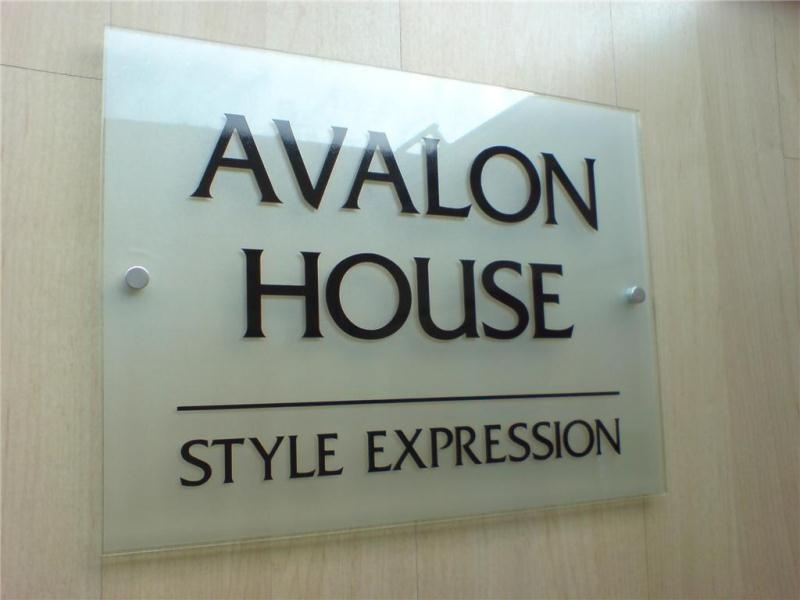text: (219, 110, 234, 233), (235, 110, 250, 233), (251, 110, 266, 233), (267, 110, 282, 233), (283, 110, 298, 233), (299, 110, 314, 233), (315, 110, 330, 233), (331, 110, 346, 233), (347, 110, 362, 233), (363, 110, 378, 233), (379, 110, 394, 233), (395, 110, 410, 233), (411, 110, 426, 233), (427, 110, 442, 233), (443, 110, 458, 233), (459, 110, 474, 233), (475, 110, 490, 233), (491, 110, 506, 233), (507, 110, 522, 233), (523, 110, 538, 233), (539, 110, 554, 233), (555, 110, 570, 233), (571, 110, 586, 233), (587, 110, 602, 233), (240, 248, 255, 341), (256, 248, 271, 341), (272, 248, 287, 341), (288, 248, 303, 341), (304, 248, 319, 341), (320, 248, 335, 341), (336, 248, 351, 341), (352, 248, 367, 341), (368, 248, 383, 341), (384, 248, 399, 341), (400, 248, 415, 341), (416, 248, 431, 341), (432, 248, 447, 341), (448, 248, 463, 341), (464, 248, 479, 341), (480, 248, 495, 341), (496, 248, 511, 341), (512, 248, 527, 341), (528, 248, 543, 341), (544, 248, 559, 341), (560, 248, 575, 341), (174, 431, 189, 489), (190, 431, 205, 489), (206, 431, 221, 489), (222, 431, 237, 489), (238, 431, 253, 489), (254, 431, 269, 489), (270, 431, 285, 489), (286, 431, 301, 489), (302, 431, 317, 489), (318, 431, 333, 489), (334, 431, 349, 489), (358, 416, 373, 474), (374, 416, 389, 474), (390, 416, 405, 474), (406, 416, 421, 474), (422, 416, 437, 474), (438, 416, 453, 474), (454, 416, 469, 474), (470, 416, 485, 474), (486, 416, 501, 474), (502, 416, 517, 474), (518, 416, 533, 474), (534, 416, 549, 474), (550, 416, 565, 474), (566, 416, 581, 474), (582, 416, 597, 474), (598, 416, 613, 474), (614, 416, 629, 474)
